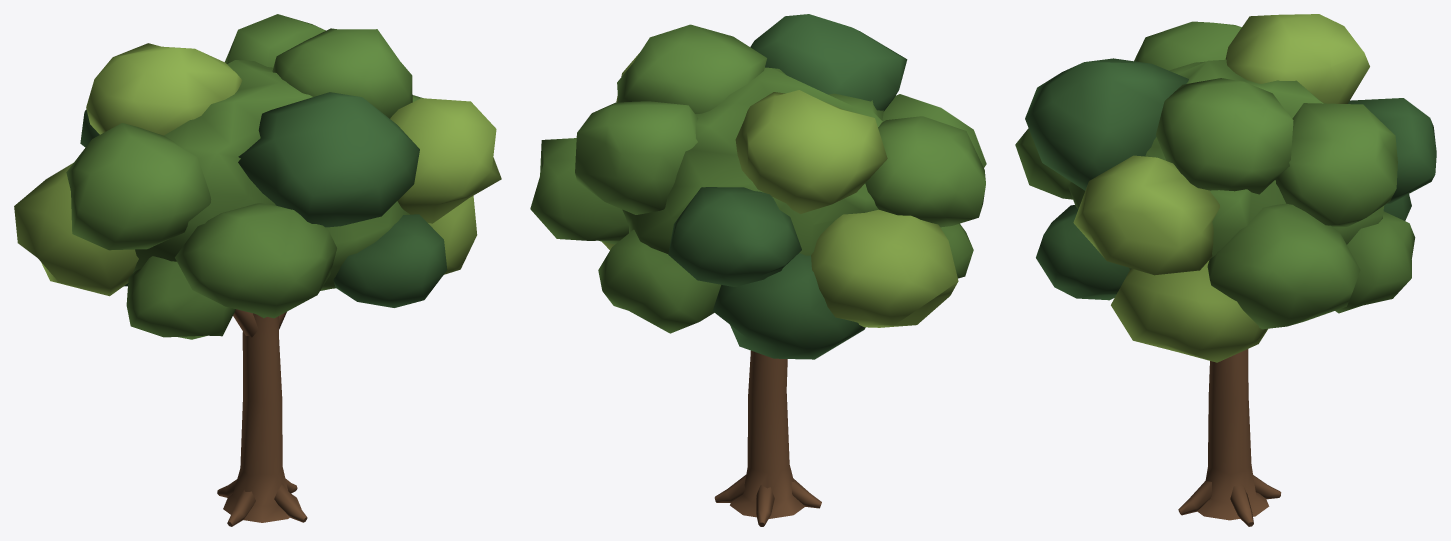
The model's file is tree_oak.glb.
The picture shows the model from 3 angles, left to right: view 1: azimuth 30°, elevation 25°; view 2: azimuth 150°, elevation 25°; view 3: azimuth 270°, elevation 25°; orthographic projection. The views are drawn at different scales.
Visible parts, largest first — view 1: leaves, leaves_4, leaves_3, trunk; view 2: leaves, leaves_3, leaves_2, trunk, leaves_4; view 3: leaves, leaves_4, leaves_2, trunk, leaves_3.
Part boxes in pixels (bbox=[...]): leaves: bbox=[86, 14, 419, 318]; leaves_4: bbox=[175, 98, 501, 318]; leaves_3: bbox=[14, 123, 235, 339]; trunk: bbox=[217, 309, 307, 526]; leaves: bbox=[575, 14, 907, 255]; leaves_3: bbox=[713, 116, 985, 359]; leaves_2: bbox=[530, 138, 801, 333]; trunk: bbox=[714, 350, 821, 526]; leaves_4: bbox=[602, 53, 986, 249]; leaves: bbox=[1025, 14, 1397, 269]; leaves_4: bbox=[1015, 128, 1267, 362]; leaves_2: bbox=[1207, 98, 1436, 329]; trunk: bbox=[1178, 349, 1281, 526]; leaves_3: bbox=[1134, 21, 1411, 220].
Bounding box in the file's own units: 5.56 × 5.79 × 4.83.
